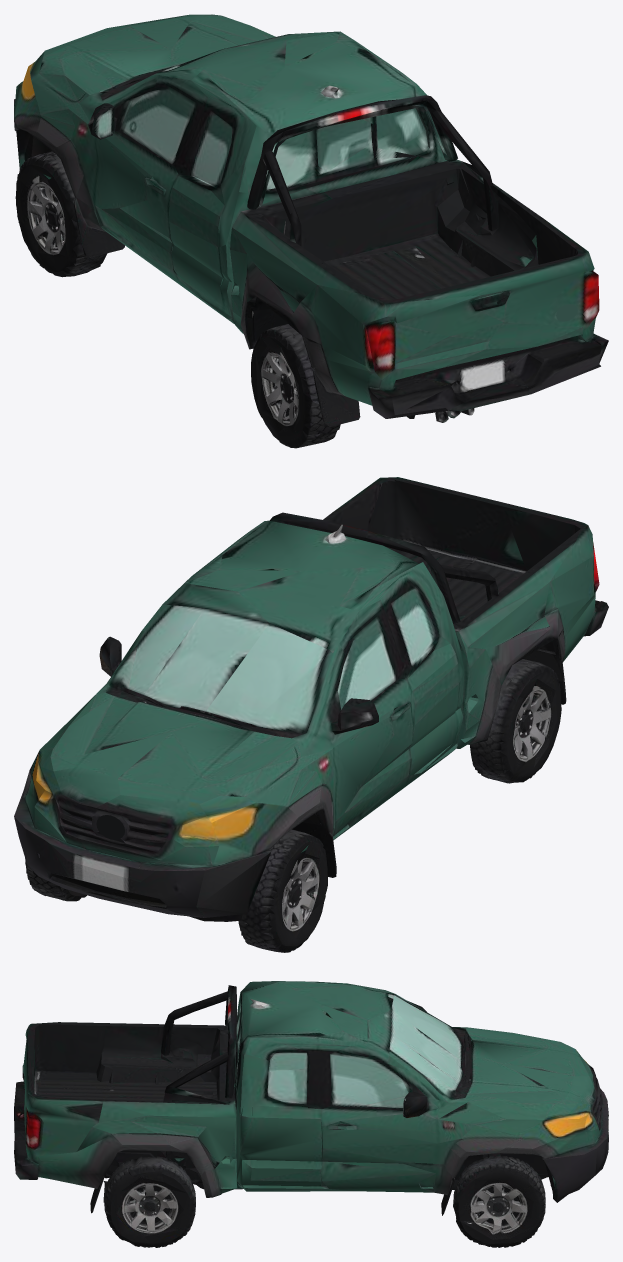
Rendered from teleopVehPickup.aaee30b6.glb.
The picture shows the model from 3 angles, top to bottom: view 1: azimuth 30°, elevation 25°; view 2: azimuth 150°, elevation 25°; view 3: azimuth 270°, elevation 25°; orthographic projection. The views are drawn at different scales.
Parts seen in each view (by area): view 1: output_unwrapped; view 2: output_unwrapped; view 3: output_unwrapped.
Part boxes in pixels (x1=…): output_unwrapped: x1=14, y1=14, x2=608, y2=448; output_unwrapped: x1=14, y1=477, x2=608, y2=952; output_unwrapped: x1=14, y1=981, x2=608, y2=1247.
Size of the model in its own units: 0.7774 by 0.7276 by 1.9.
Materials: 3 (1 with a texture image).
